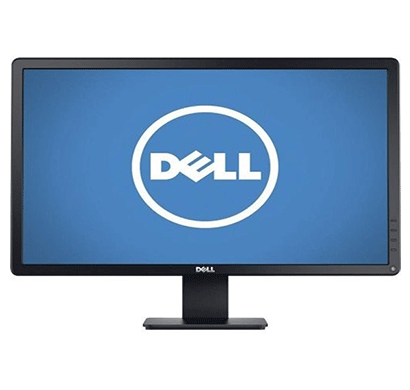dell-monitor-D1918H: (5, 52, 402, 328)
